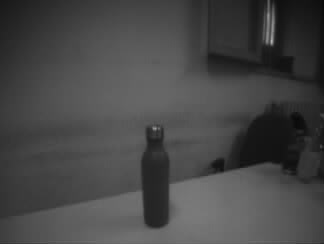Bottle: (139, 122, 170, 228)
